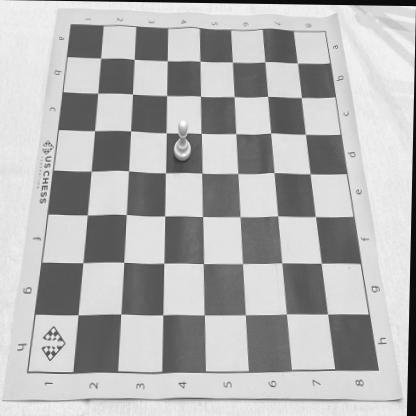white-pawn: (174, 117, 193, 162)
